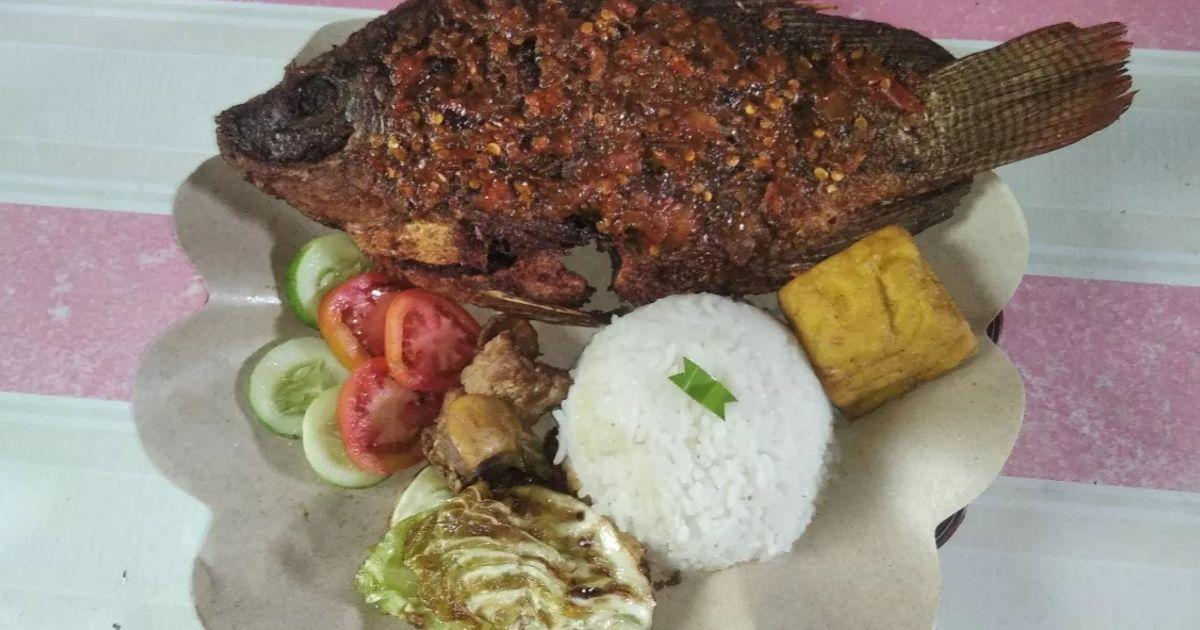buah_sayur_lainnya: (431, 489, 571, 622), (267, 350, 328, 415)
buah_sayur_vitA: (348, 298, 439, 423)
daging: (357, 43, 864, 219)
kacang_legume: (813, 265, 923, 357)
makanan_berpati: (601, 323, 777, 505)
